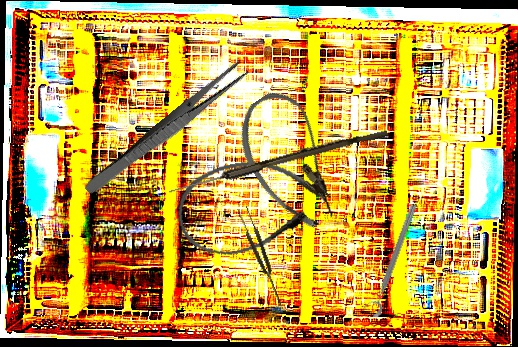Cannula: (221, 82, 361, 239), (169, 148, 338, 263)
Dressing Forceps: (82, 57, 251, 201)
Fixation Ring: (361, 200, 420, 319)
Surgical Spoon: (167, 125, 389, 198)
Tissue Forceps: (236, 205, 287, 309)
